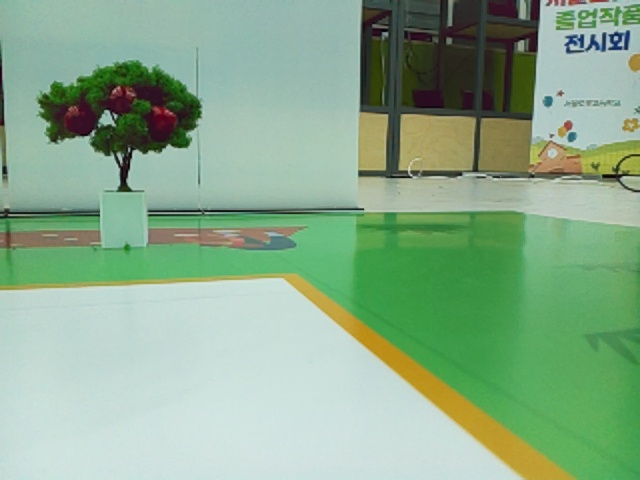apple: (152, 106, 177, 129)
